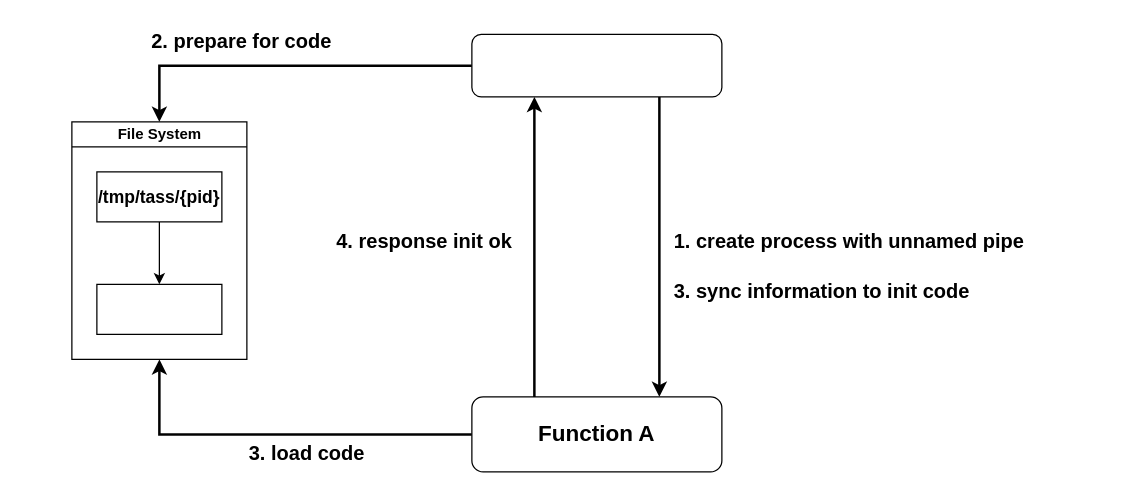
This 1133x494 diagram has some shape labels left out. Each missing label, with the centre of its shape:
/code: the point at 159,308
FunctionScheduler: the point at 596,65
